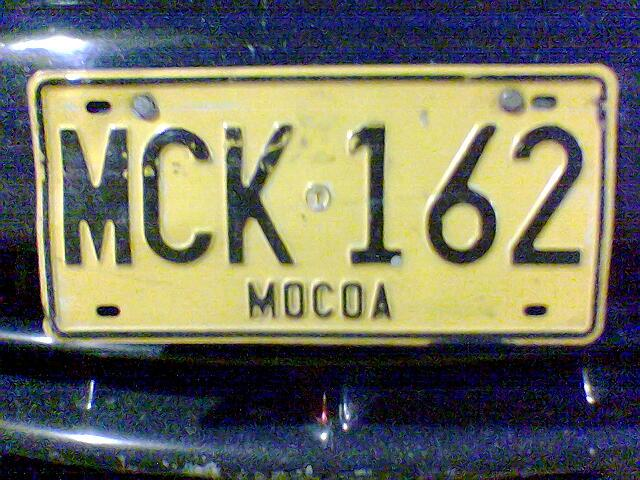placas: (21, 56, 624, 352)
